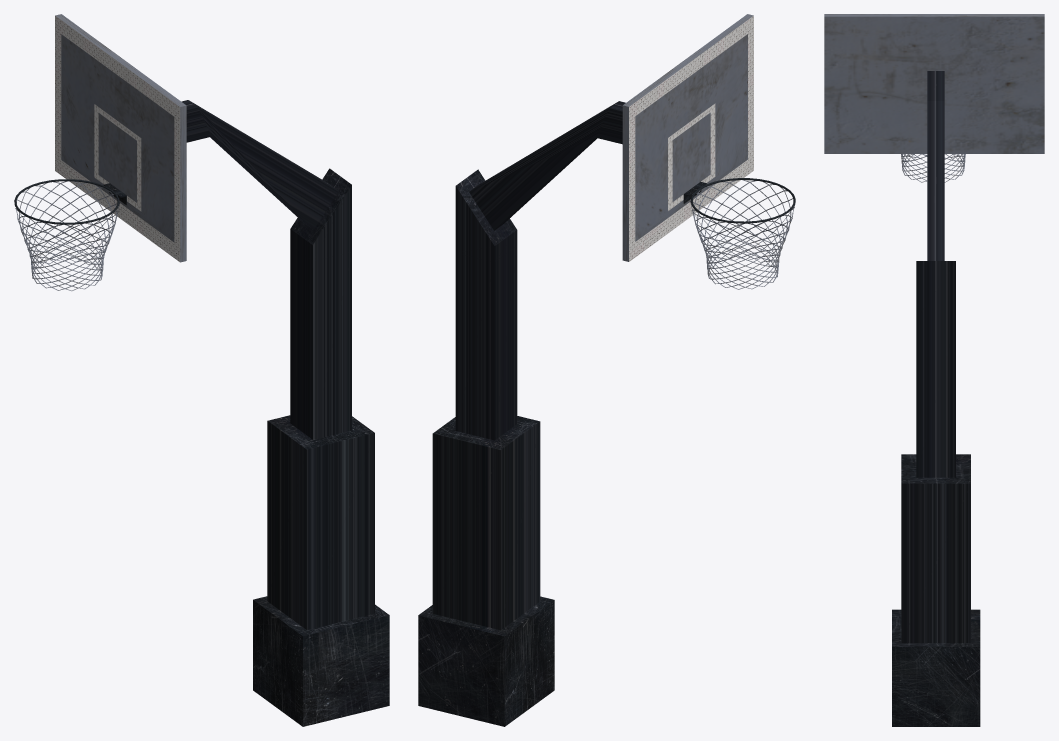
File: basketball_goal.obj
The picture shows the model from 3 angles, left to right: view 1: azimuth 30°, elevation 25°; view 2: azimuth 150°, elevation 25°; view 3: azimuth 270°, elevation 25°; orthographic projection. The views are drawn at different scales.
Parts seen in each view (by area): view 1: Stand.001_Cube.006, Board.001_Cube.005, Net.001_Cylinder.002, Hoop.001_Circle.002; view 2: Stand.001_Cube.006, Board.001_Cube.005, Net.001_Cylinder.002, Hoop.001_Circle.002; view 3: Stand.001_Cube.006, Board.001_Cube.005, Net.001_Cylinder.002.
Boxes of the visible parts, x1,y1,x2,y2 form: Stand.001_Cube.006: (181, 100, 389, 726); Board.001_Cube.005: (55, 14, 186, 262); Net.001_Cylinder.002: (15, 181, 119, 291); Hoop.001_Circle.002: (14, 179, 119, 224); Stand.001_Cube.006: (418, 101, 625, 726); Board.001_Cube.005: (622, 14, 753, 261); Net.001_Cylinder.002: (690, 180, 794, 289); Hoop.001_Circle.002: (690, 178, 795, 223); Stand.001_Cube.006: (892, 71, 980, 726); Board.001_Cube.005: (824, 14, 1044, 153); Net.001_Cylinder.002: (901, 154, 965, 182).
Bounding box in the file's own units: 3.56 × 6.79 × 2.24.
Materials: 3 (3 with a texture image).
